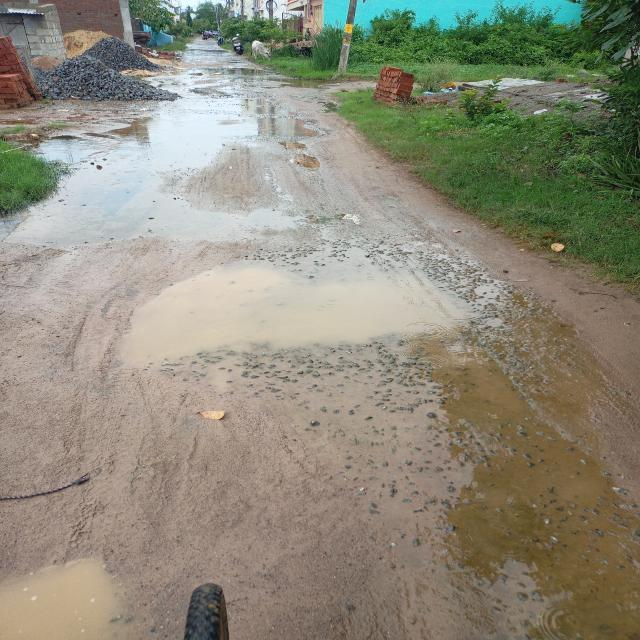potholes: (104, 251, 501, 361)
